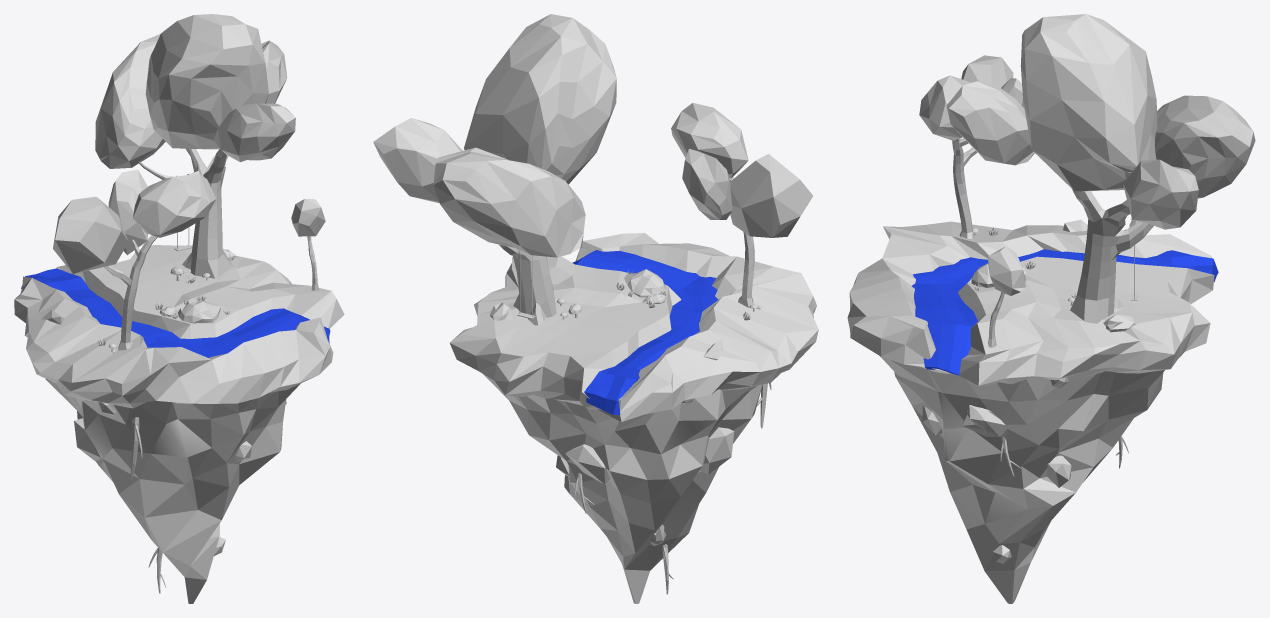
3 views of the same model, side by side, from view 1: azimuth 30°, elevation 25°; view 2: azimuth 150°, elevation 25°; view 3: azimuth 270°, elevation 25° (orthographic). The views are drawn at different scales.
Parts seen in each view (by area): view 1: Tree 1, Object004, Object006, Water, Object016, Object014, Object002, Main Tree, Object012, Object018, Object008, Object; view 2: Tree 1, Object004, Object006, Water, Object016, Object008, Object014, Object012, Main Tree, Object018; view 3: Tree 1, Object004, Object006, Water, Main Tree, Object002, Object008, Object014, Object, Object018, Object016.
Boxes of the visible parts, x1,y1,x2,y2 form: Tree 1: [14, 245, 344, 603]; Object004: [145, 14, 268, 149]; Object006: [95, 34, 165, 168]; Water: [21, 268, 330, 357]; Object016: [53, 196, 128, 273]; Object014: [133, 173, 216, 237]; Object002: [213, 103, 295, 162]; Main Tree: [139, 148, 233, 278]; Object012: [108, 169, 147, 255]; Object018: [104, 235, 157, 350]; Object008: [261, 40, 287, 103]; Object: [291, 199, 325, 236]; Tree 1: [450, 233, 818, 603]; Object004: [464, 14, 616, 184]; Object006: [433, 147, 585, 257]; Water: [572, 250, 718, 414]; Object016: [730, 154, 812, 237]; Object008: [373, 118, 462, 202]; Object014: [671, 103, 748, 178]; Object012: [682, 148, 732, 219]; Main Tree: [499, 244, 556, 325]; Object018: [729, 176, 754, 307]; Tree 1: [847, 219, 1214, 603]; Object004: [1020, 14, 1157, 191]; Object006: [1155, 95, 1255, 198]; Water: [912, 249, 1218, 375]; Main Tree: [1035, 153, 1153, 323]; Object002: [946, 81, 1034, 165]; Object008: [1123, 159, 1198, 229]; Object014: [919, 75, 970, 140]; Object: [988, 246, 1025, 295]; Object018: [952, 138, 977, 239]; Object016: [961, 55, 1013, 87].
Bounding box in the file's own units: 279 × 463 × 280.
